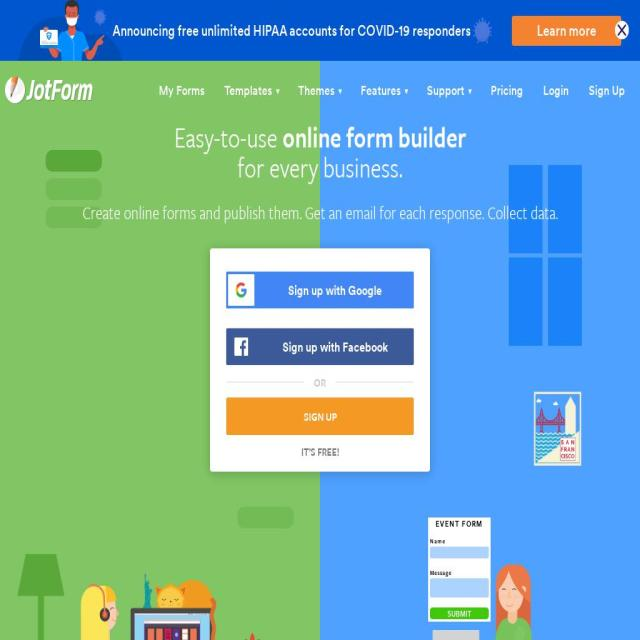button: (226, 327, 414, 365), (226, 397, 414, 435), (226, 271, 414, 308), (214, 68, 289, 114), (512, 15, 622, 46), (350, 68, 418, 114), (149, 68, 215, 114), (417, 68, 481, 114), (288, 68, 351, 114), (579, 68, 635, 114), (481, 68, 533, 114), (533, 68, 579, 114)
heading: (174, 120, 282, 472), (39, 201, 601, 223), (282, 116, 466, 156), (237, 146, 403, 187)
image: (47, 561, 273, 640), (367, 561, 593, 640), (18, 0, 123, 61), (15, 552, 66, 640), (532, 390, 582, 468), (509, 257, 543, 346), (548, 257, 582, 346), (509, 165, 543, 253), (548, 165, 582, 253), (46, 150, 102, 172), (46, 178, 102, 200), (238, 450, 294, 472), (46, 207, 102, 228), (238, 507, 294, 528), (432, 579, 486, 596), (452, 576, 476, 612), (452, 576, 476, 607), (614, 20, 636, 48), (473, 17, 493, 44), (432, 548, 486, 556), (234, 332, 248, 360), (236, 282, 247, 298), (172, 638, 190, 640)
label: (429, 568, 452, 578), (428, 536, 446, 546)
link: (300, 442, 340, 460)
text: (256, 327, 414, 365), (256, 271, 414, 308), (112, 20, 340, 40), (339, 20, 472, 40), (429, 607, 490, 621), (429, 518, 490, 530), (304, 374, 336, 389), (172, 638, 177, 640)
